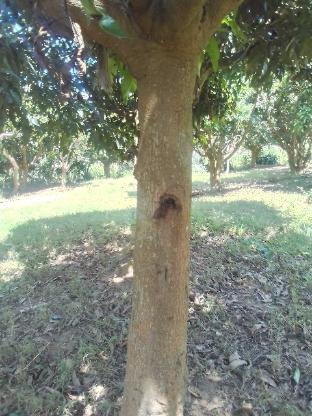tree: (34, 0, 234, 412)
